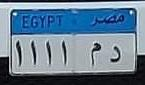1: (59, 40, 69, 66), (29, 39, 38, 66), (14, 39, 23, 66), (44, 40, 52, 64)
daal: (107, 44, 124, 65)
meem: (87, 41, 103, 66)
